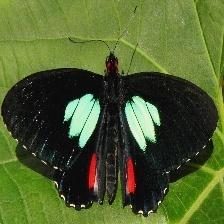butterfly: (2, 53, 219, 216)
